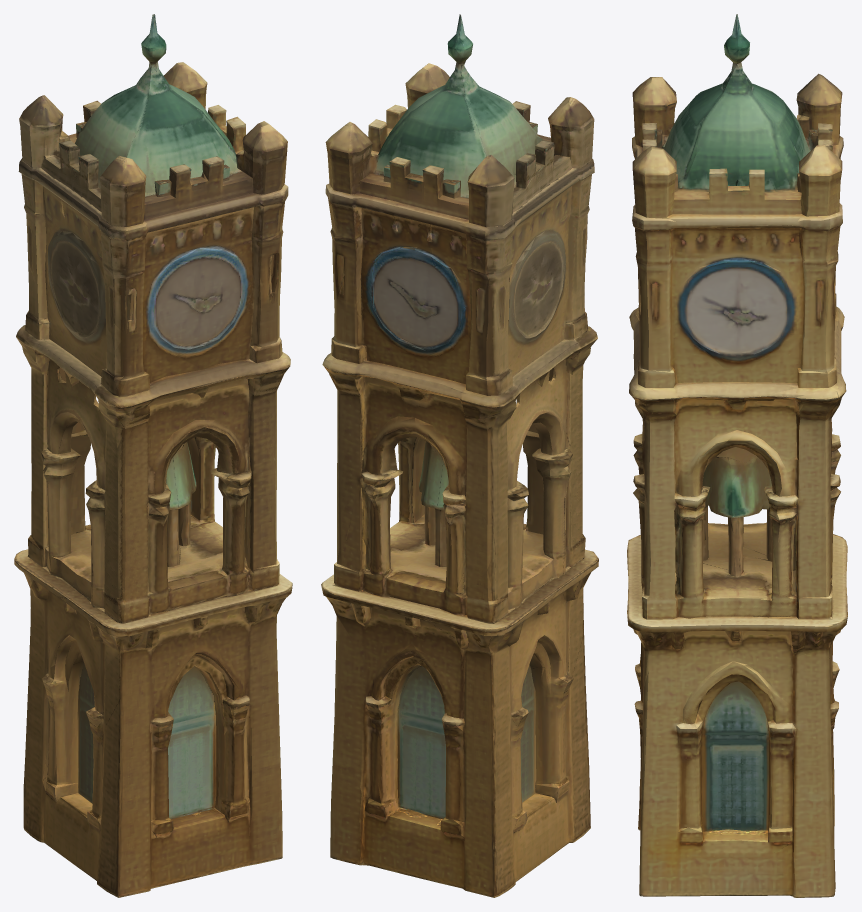
Rendered from bld_jaffa_clock_tower.glb.
The picture shows the model from 3 angles, left to right: view 1: azimuth 30°, elevation 25°; view 2: azimuth 150°, elevation 25°; view 3: azimuth 270°, elevation 25°; orthographic projection.
Parts seen in each view (by area): view 1: geometry_0; view 2: geometry_0; view 3: geometry_0.
Part boxes in pixels (<box>): geometry_0: <box>14,14,292,897</box>; geometry_0: <box>321,14,598,897</box>; geometry_0: <box>627,14,847,897</box>.
Size of the model in its own units: 5.9 by 25 by 5.94.
Materials: 1 (1 with a texture image).
